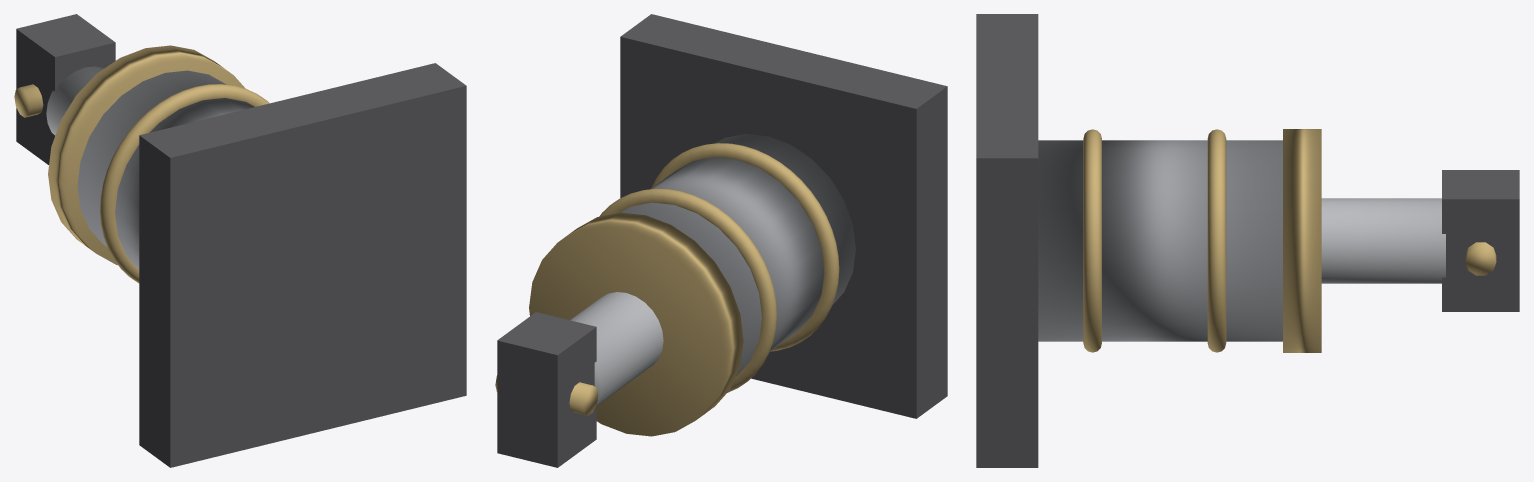
Rendered from piston.glb.
The picture shows the model from 3 angles, left to right: view 1: azimuth 30°, elevation 25°; view 2: azimuth 150°, elevation 25°; view 3: azimuth 270°, elevation 25°; orthographic projection.
Visible parts, largest first — view 1: PistonBody, PistonRod; view 2: PistonBody, PistonRod; view 3: PistonBody, PistonRod.
Boxes of the visible parts, x1=… form: PistonBody: x1=48, y1=45, x2=466, y2=467; PistonRod: x1=14, y1=14, x2=115, y2=164; PistonBody: x1=529, y1=14, x2=947, y2=436; PistonRod: x1=495, y1=292, x2=663, y2=467; PistonBody: x1=976, y1=14, x2=1321, y2=467; PistonRod: x1=1321, y1=170, x2=1519, y2=311.
Size of the model in its own units: 0.44 by 0.44 by 0.7.
